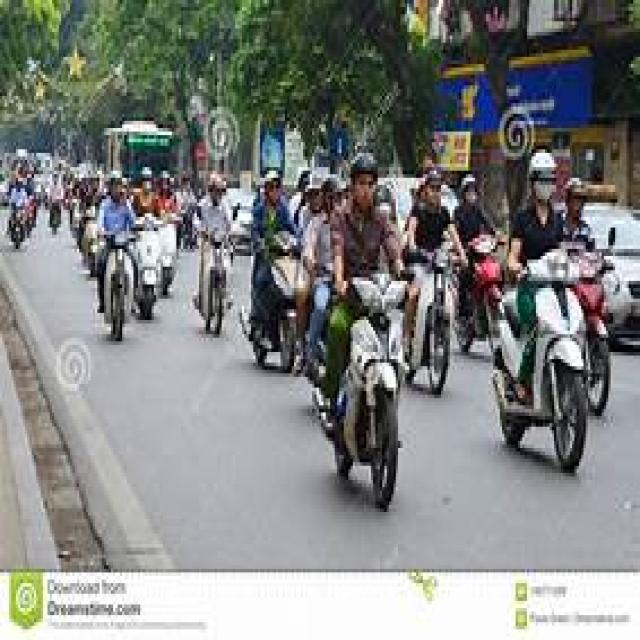Two Wheeler: (310, 246, 455, 508), (456, 238, 609, 469), (104, 220, 173, 339), (240, 236, 300, 366), (196, 238, 226, 333)
